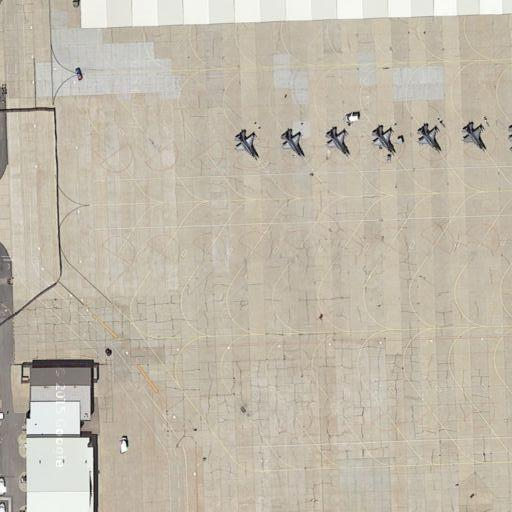F-16: (231, 125, 263, 162), (323, 124, 356, 158), (459, 120, 489, 156), (414, 121, 444, 156), (279, 127, 307, 162), (370, 123, 397, 155)
